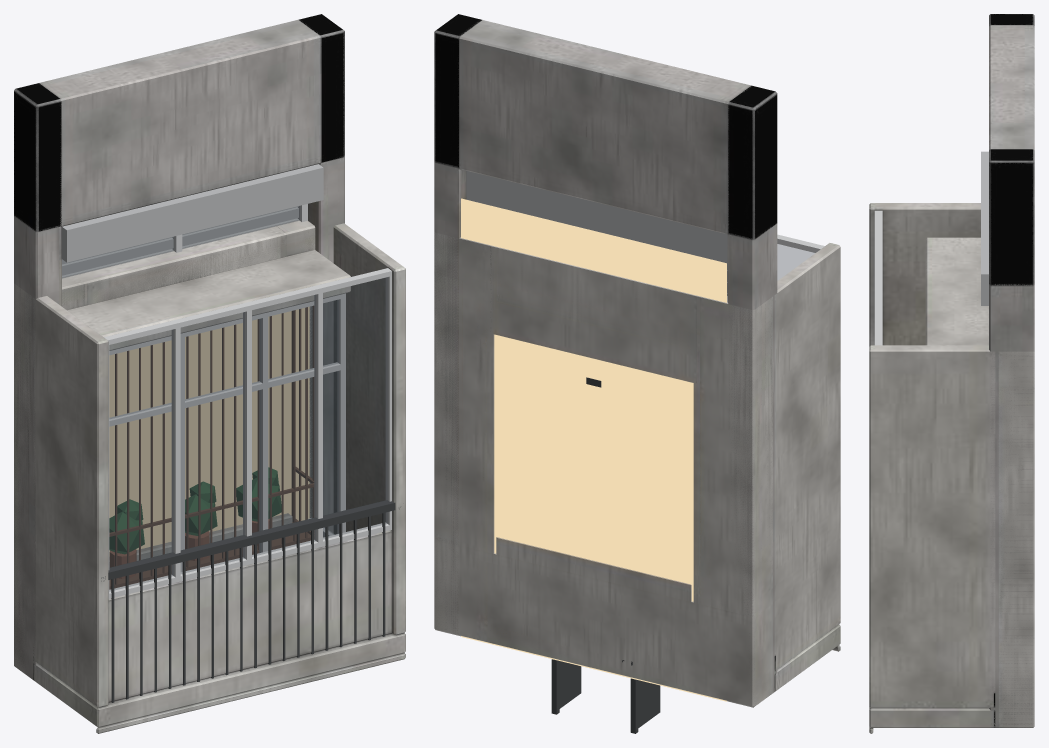
The model's file is hk_kit.glb.
The picture shows the model from 3 angles, left to right: view 1: azimuth 30°, elevation 25°; view 2: azimuth 150°, elevation 25°; view 3: azimuth 270°, elevation 25°; orthographic projection. The views are drawn at different scales.
Parts seen in each view (by area): view 1: balc_closed__wall, shop_open__wall, balc_closed__glass, bay__glass, bay__interior, bay__wall, balc_closed__frame, cage__metal, balc_open__metal, shop_open__shutter, bay__frame, win__wall (+4 smaller); view 2: balc_closed__wall, shop_open__wall, bay__wall, win__interior, shop_open__interior, win__wall, balc_closed__interior, shop_open__shutter, ac__metal, balc_closed__glass; view 3: balc_closed__wall, shop_open__wall, bay__wall, shop_open__shutter, balc_closed__frame.
Boxes of the visible parts, x1,y1,x2,y2 form: balc_closed__wall: (14, 220, 405, 733); shop_open__wall: (14, 14, 344, 679); balc_closed__glass: (109, 277, 387, 591); bay__glass: (110, 300, 338, 588); bay__interior: (109, 307, 309, 555); bay__wall: (14, 220, 350, 669); balc_closed__frame: (104, 268, 391, 598); cage__metal: (109, 305, 314, 589); balc_open__metal: (99, 500, 403, 707); shop_open__shutter: (62, 164, 323, 262); bay__frame: (109, 293, 345, 572); win__wall: (62, 221, 314, 566); balc_closed__wall: (434, 232, 840, 707); shop_open__wall: (434, 14, 777, 707); bay__wall: (434, 233, 772, 705); win__interior: (494, 336, 693, 586); shop_open__interior: (461, 198, 726, 701); win__wall: (435, 234, 751, 705); balc_closed__interior: (494, 334, 693, 555); shop_open__shutter: (466, 171, 727, 263); ac__metal: (551, 659, 660, 733); balc_closed__glass: (777, 244, 814, 280); balc_closed__wall: (869, 203, 1034, 733); shop_open__wall: (989, 14, 1034, 727); bay__wall: (925, 237, 1034, 726); shop_open__shutter: (981, 151, 988, 305); balc_closed__frame: (874, 210, 882, 345).
Bounding box in the file's own units: 2.6 × 5.07 × 1.23.
Materials: 15 (7 with a texture image).
